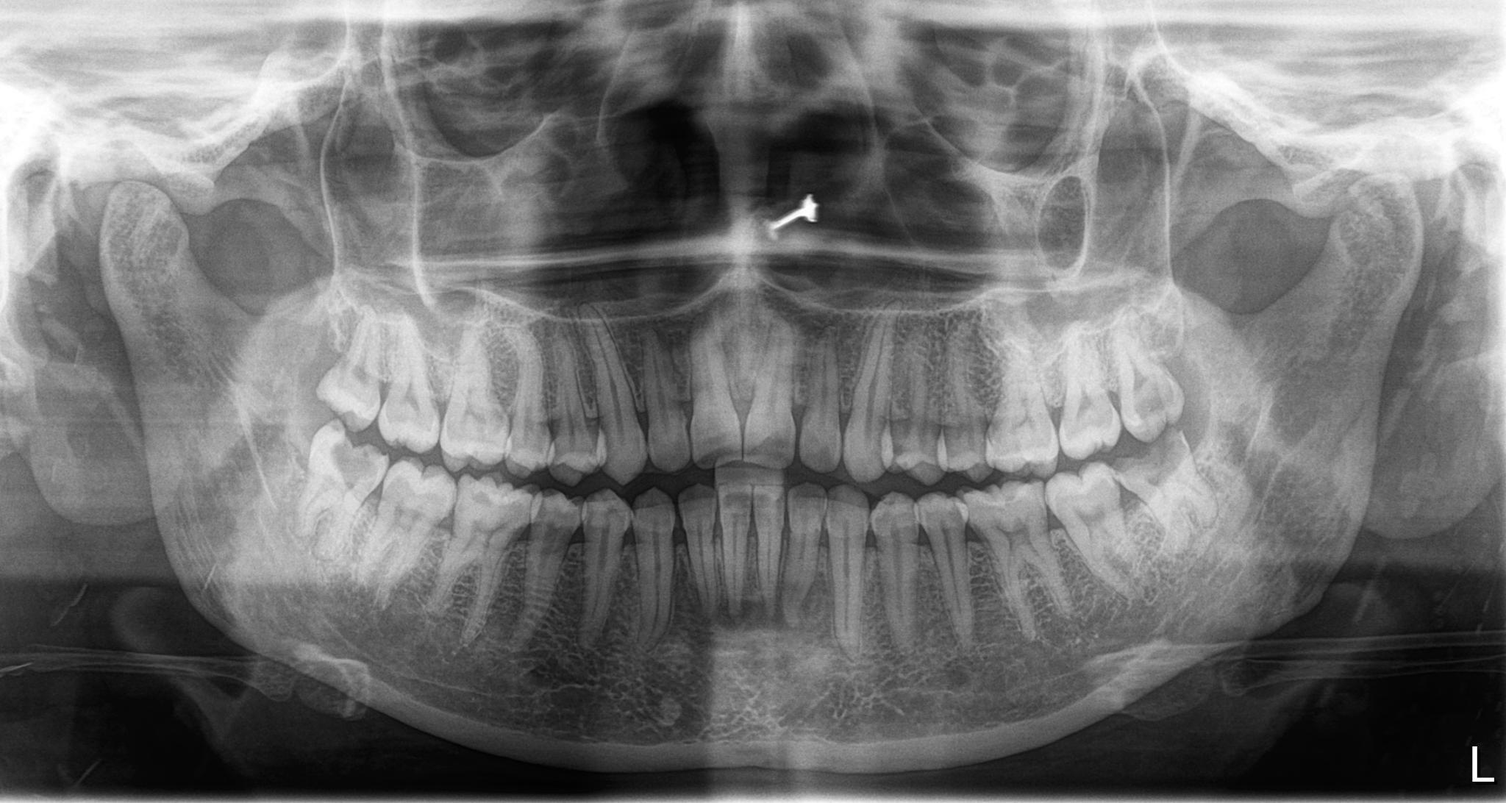Dental Caries: (318, 445, 382, 502)
